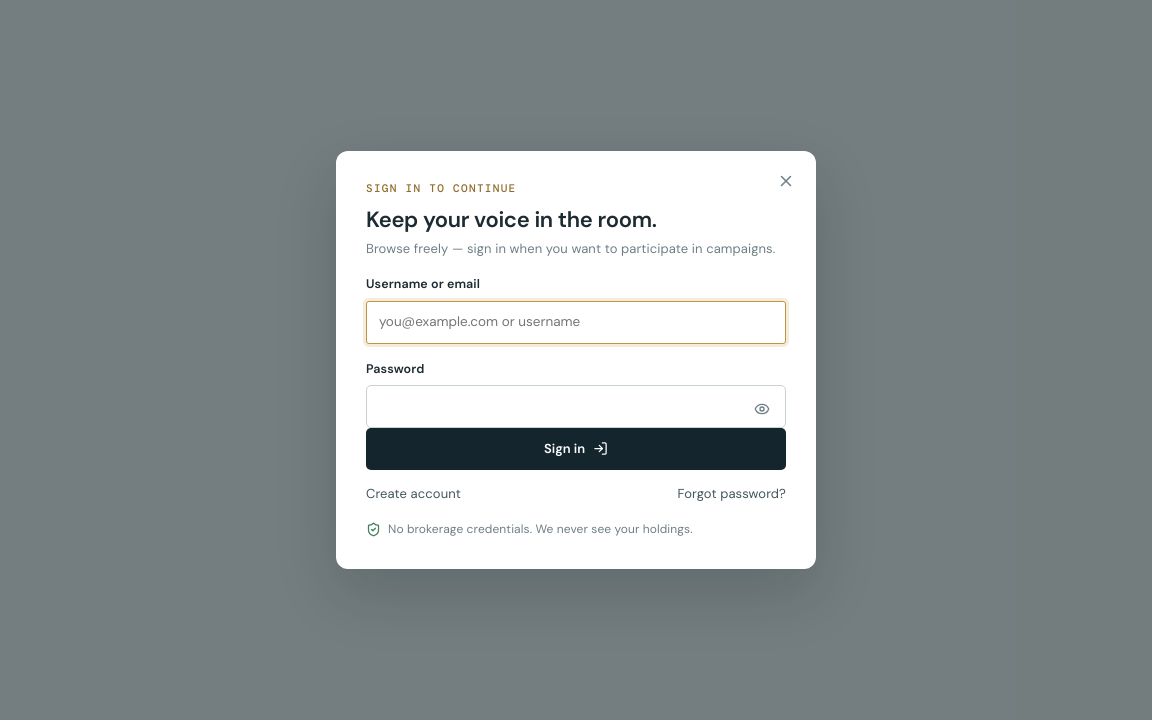
Test: AuthModal — password sign-in › shows one generic error when login fails (no field disclosure)
Type "person@example.com" into the field with placeholder "you@example.com or username" at (576, 322), box [366, 301, 786, 344]
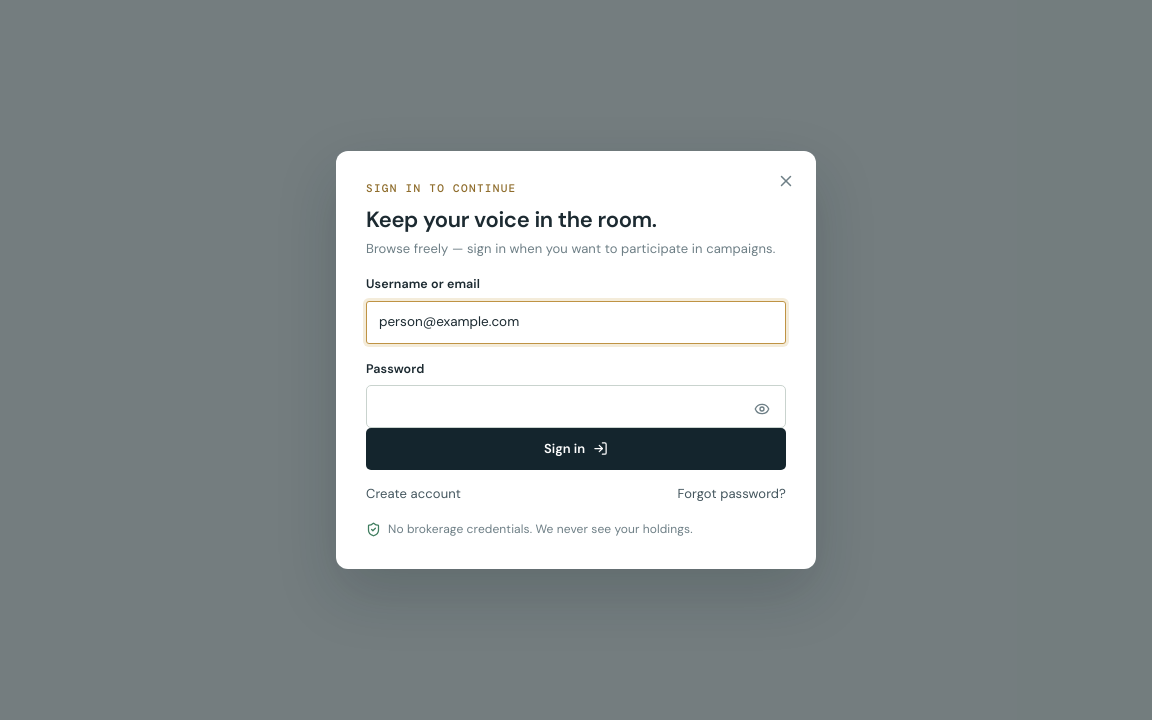
Type "whatever1234" into the password field named "password" at (576, 406), box [366, 385, 786, 428]
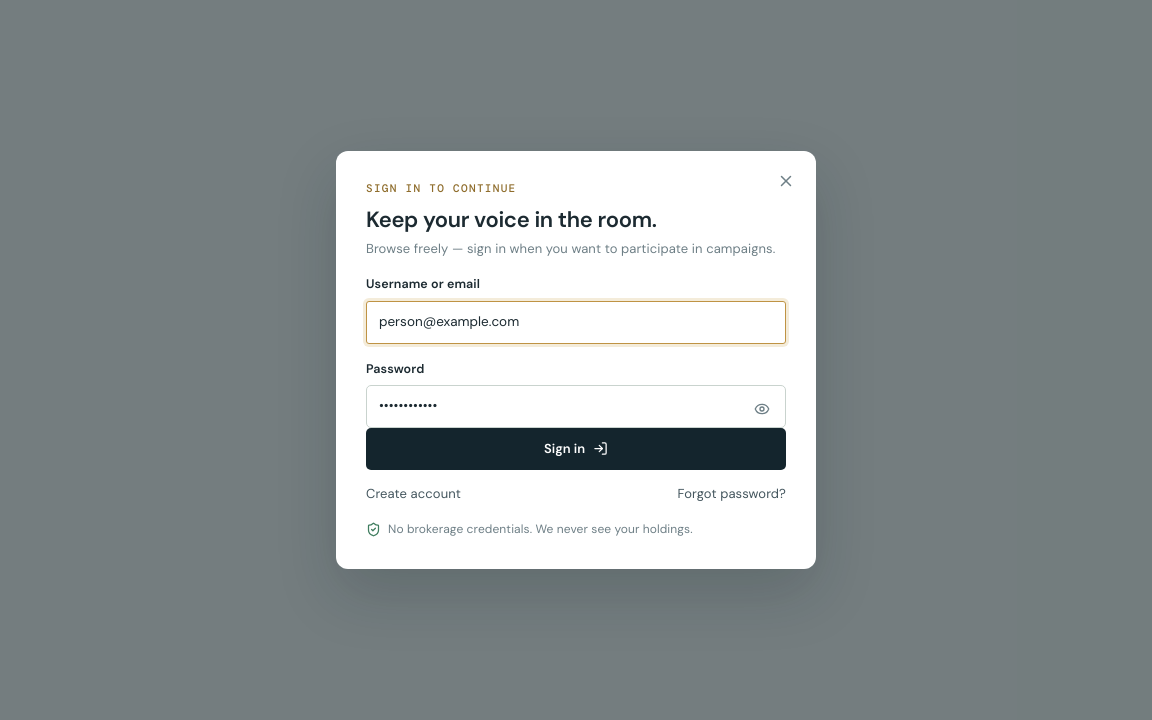
Click the button "Sign in" at (576, 449), box [366, 428, 786, 470]
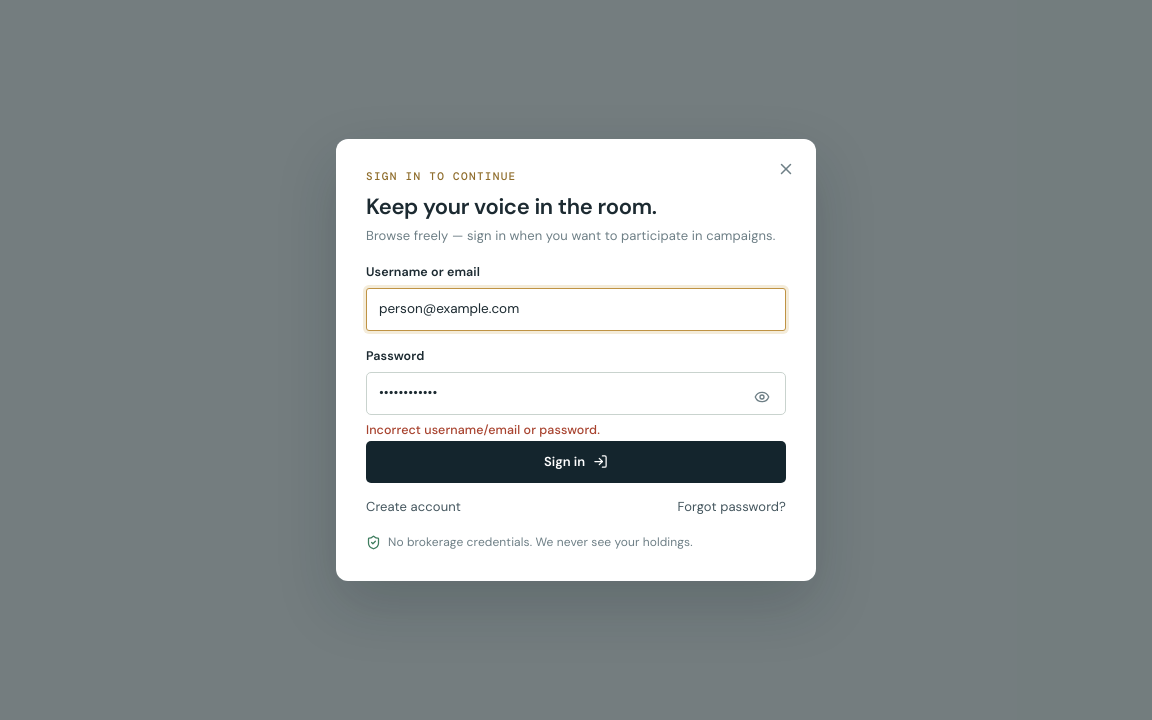
Check: the message shows "Incorrect username/email or password", box [366, 422, 600, 438]
